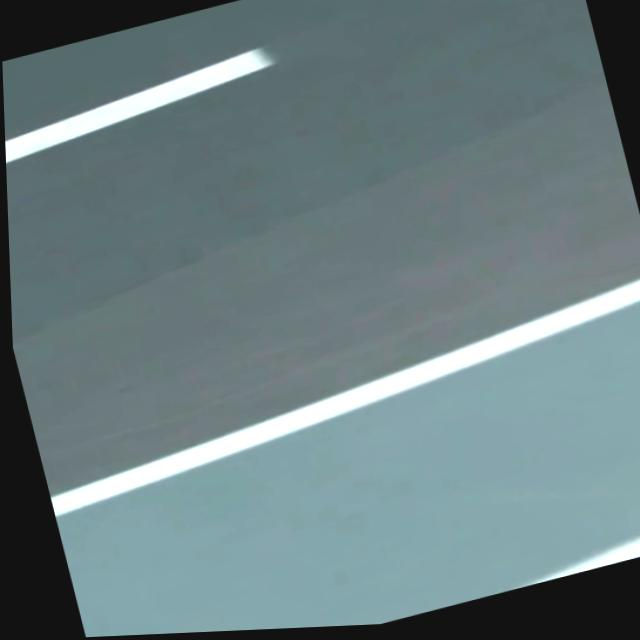center: (5, 50, 272, 163)
left: (49, 279, 640, 517)
